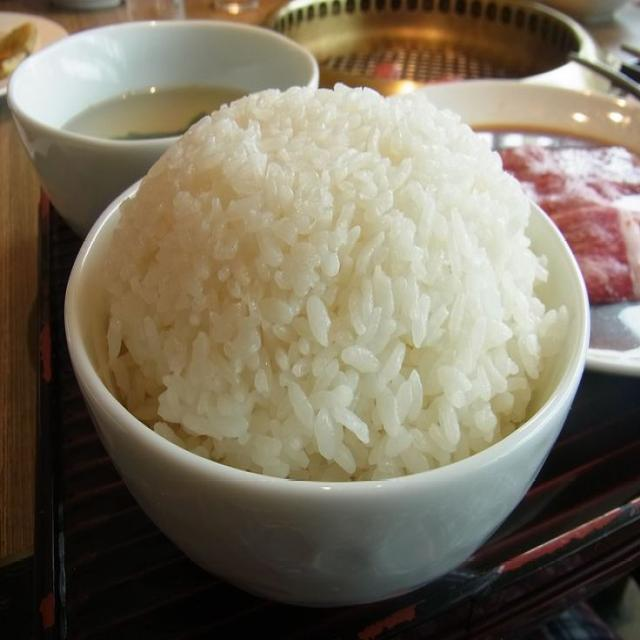rice: (107, 86, 566, 480)
